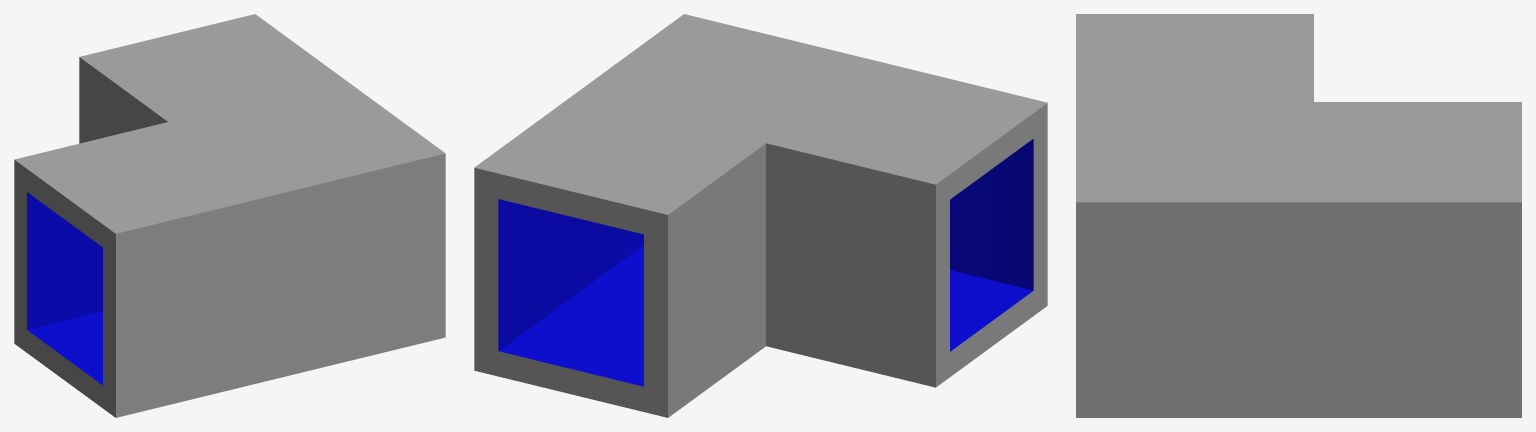
Rendered from top left hollow.fbx.
3 renders of one model, left to right at view 1: azimuth 30°, elevation 25°; view 2: azimuth 150°, elevation 25°; view 3: azimuth 270°, elevation 25°, orthographic. The views are drawn at different scales.
Parts seen in each view (by area): view 1: top_left_hollow; view 2: top_left_hollow; view 3: top_left_hollow.
Boxes of the visible parts, x1,y1,x2,y2 form: top_left_hollow: (14, 14, 445, 417); top_left_hollow: (474, 14, 1047, 417); top_left_hollow: (1076, 14, 1521, 417).
Size of the model in its own units: 7.5 by 4 by 7.5.
